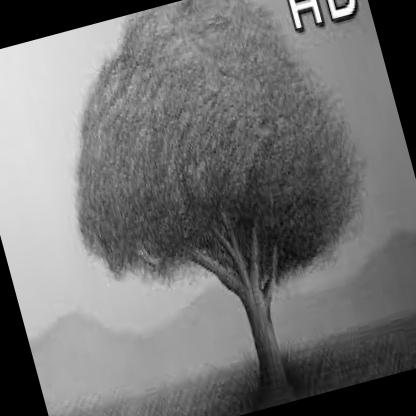branch_cut: (177, 209, 294, 334)
crown_dizzy: (30, 0, 389, 328)
trunk_straight: (247, 316, 288, 382)
